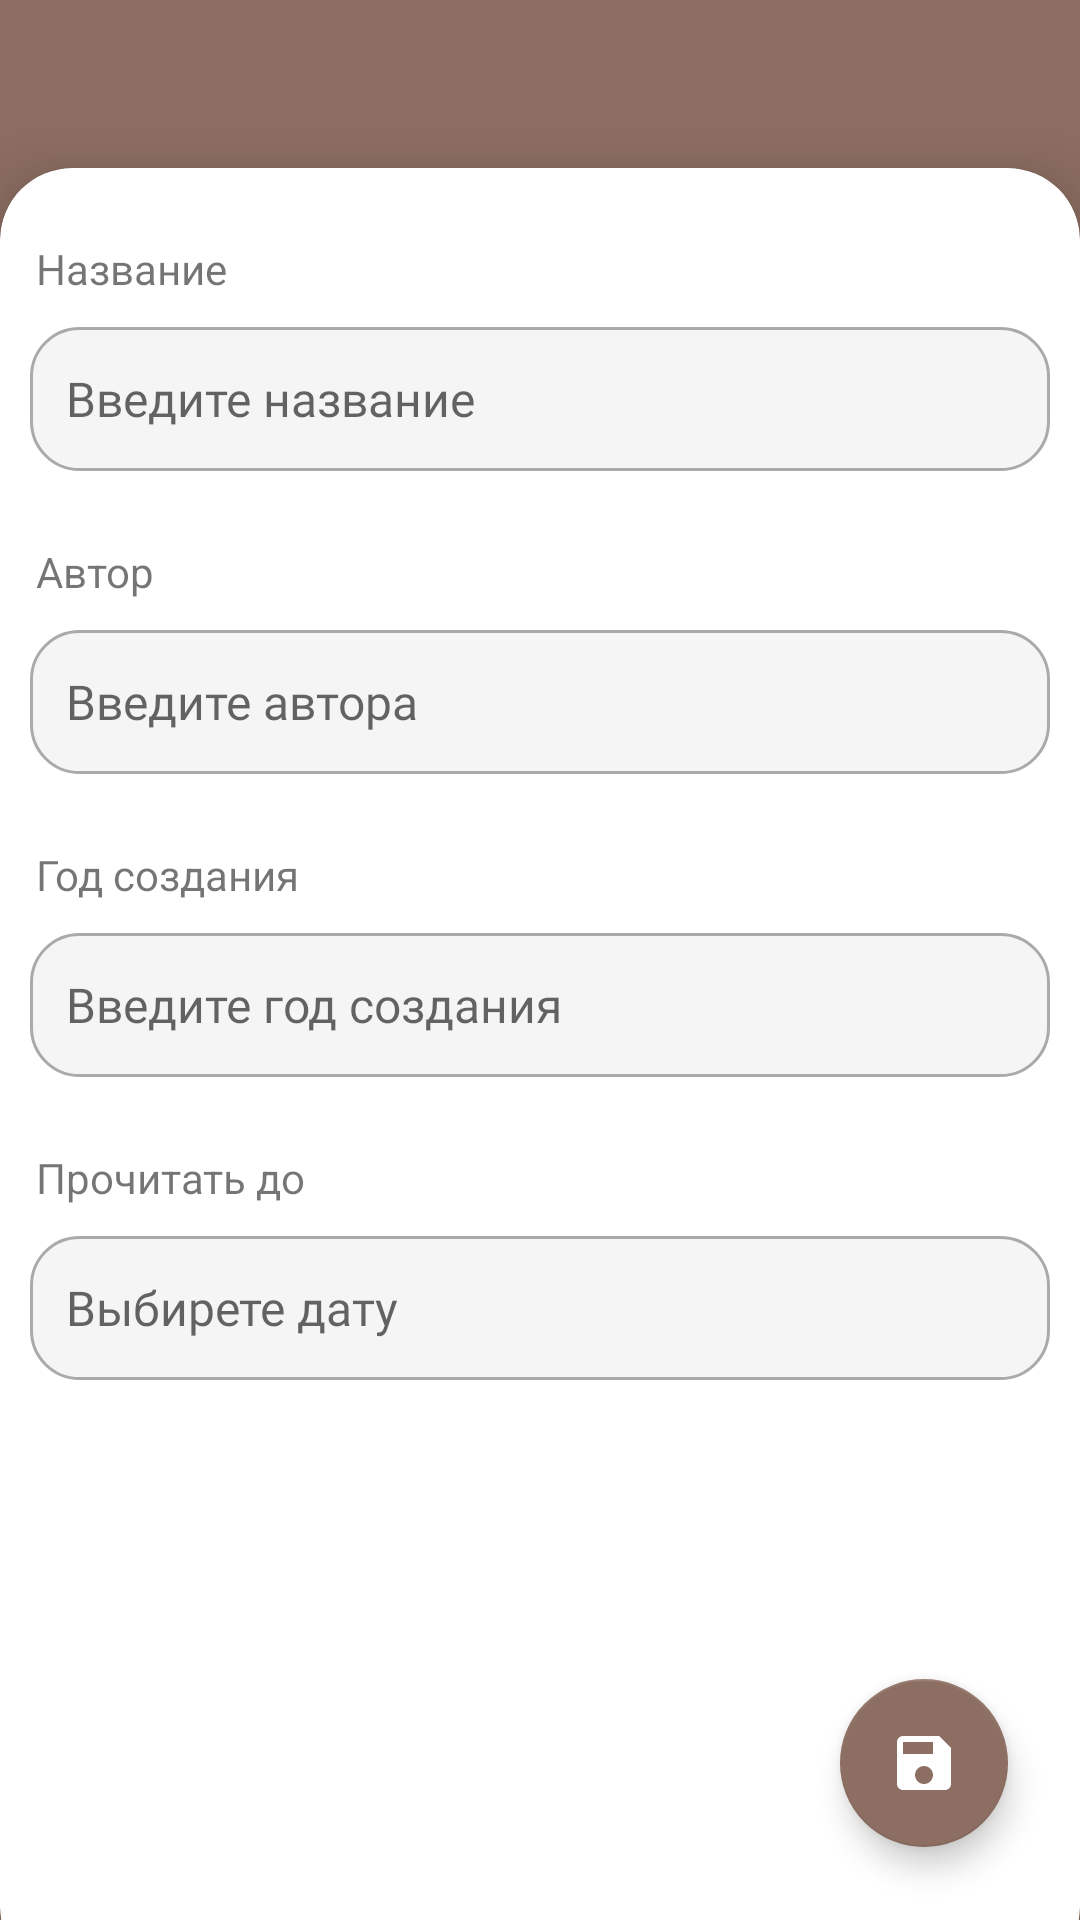

Where to tap for icons on this 1080*1920 app screen, as (x,y):
Эта кнопка сохраняет книгу: (924,1763)
